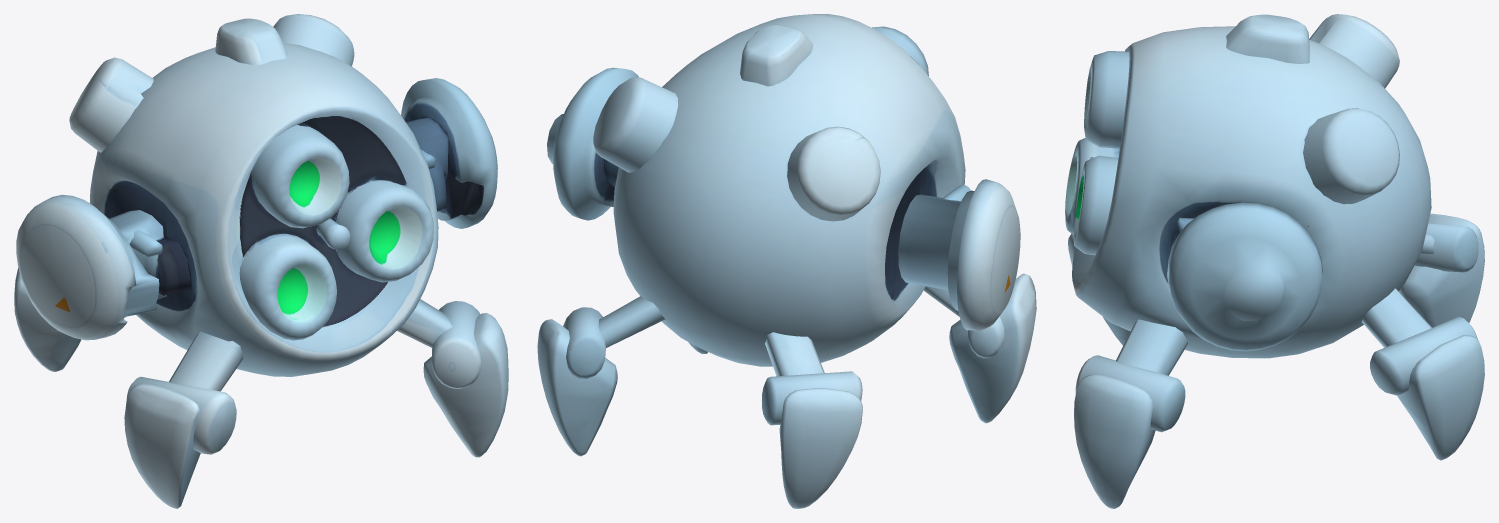
The model's file is original.glb.
The picture shows the model from 3 angles, left to right: view 1: azimuth 30°, elevation 25°; view 2: azimuth 150°, elevation 25°; view 3: azimuth 270°, elevation 25°; orthographic projection.
Visible parts, largest first — view 1: tripo_part_0, tripo_part_2, tripo_part_6, tripo_part_8, tripo_part_1, tripo_part_10, tripo_part_5, tripo_part_9, tripo_part_3, tripo_part_11, tripo_part_7, tripo_part_23 (+8 smaller); view 2: tripo_part_0, tripo_part_2, tripo_part_12, tripo_part_3, tripo_part_1, tripo_part_5, tripo_part_4, tripo_part_13, tripo_part_14, tripo_part_15, tripo_part_16, tripo_part_25 (+3 smaller); view 3: tripo_part_0, tripo_part_1, tripo_part_9, tripo_part_13, tripo_part_4, tripo_part_12, tripo_part_10, tripo_part_3, tripo_part_14, tripo_part_15, tripo_part_8, tripo_part_11 (+4 smaller).
Boxes of the visible parts, <box> form: tripo_part_0: <box>89,42,438,376</box>; tripo_part_2: <box>16,194,166,340</box>; tripo_part_6: <box>239,233,336,340</box>; tripo_part_8: <box>335,180,433,282</box>; tripo_part_1: <box>401,78,497,228</box>; tripo_part_10: <box>250,123,349,228</box>; tripo_part_5: <box>124,384,200,508</box>; tripo_part_9: <box>423,313,508,457</box>; tripo_part_3: <box>69,57,153,152</box>; tripo_part_11: <box>431,301,481,388</box>; tripo_part_7: <box>126,376,236,454</box>; tripo_part_23: <box>169,331,243,391</box>; tripo_part_0: <box>613,14,965,366</box>; tripo_part_2: <box>898,179,1020,330</box>; tripo_part_12: <box>779,388,862,508</box>; tripo_part_3: <box>787,126,880,221</box>; tripo_part_1: <box>547,67,638,220</box>; tripo_part_5: <box>949,273,1036,423</box>; tripo_part_4: <box>537,319,617,456</box>; tripo_part_13: <box>593,77,678,172</box>; tripo_part_14: <box>740,24,813,86</box>; tripo_part_15: <box>563,307,605,378</box>; tripo_part_16: <box>762,371,862,425</box>; tripo_part_25: <box>765,332,824,376</box>; tripo_part_0: <box>1072,26,1431,358</box>; tripo_part_1: <box>1167,202,1322,351</box>; tripo_part_9: <box>1074,374,1155,508</box>; tripo_part_13: <box>1303,108,1399,204</box>; tripo_part_4: <box>1397,335,1484,460</box>; tripo_part_12: <box>1399,213,1484,327</box>; tripo_part_10: <box>1084,51,1129,148</box>; tripo_part_3: <box>1309,14,1399,88</box>; tripo_part_14: <box>1226,14,1309,63</box>; tripo_part_15: <box>1370,317,1477,395</box>; tripo_part_8: <box>1074,155,1118,255</box>; tripo_part_11: <box>1075,355,1185,432</box>.
Size of the model in its own units: 0.9995 by 0.8823 by 0.811.
Materials: 27 (27 with a texture image).
